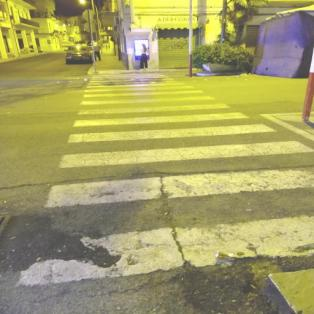Paso de Cebra: (62, 112, 278, 148), (79, 87, 220, 106)
